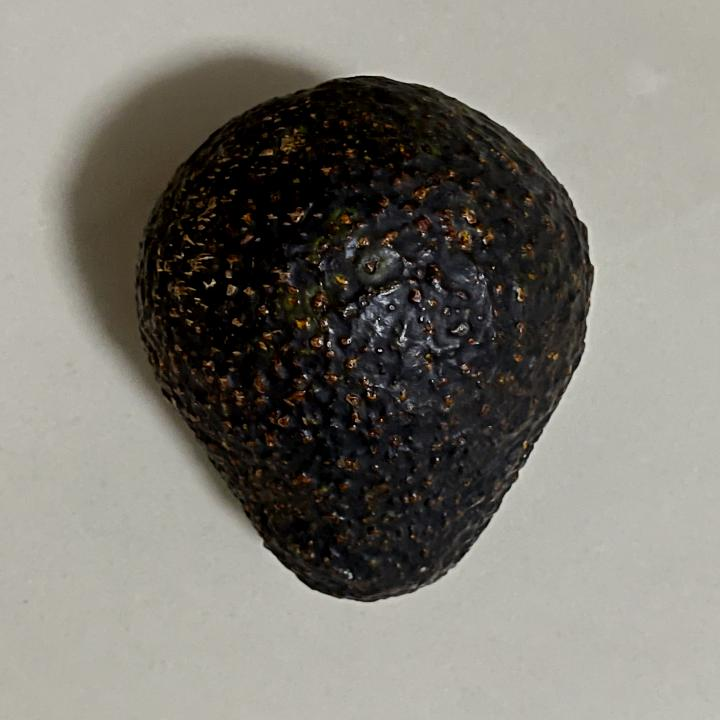Level2: (126, 71, 603, 612)
